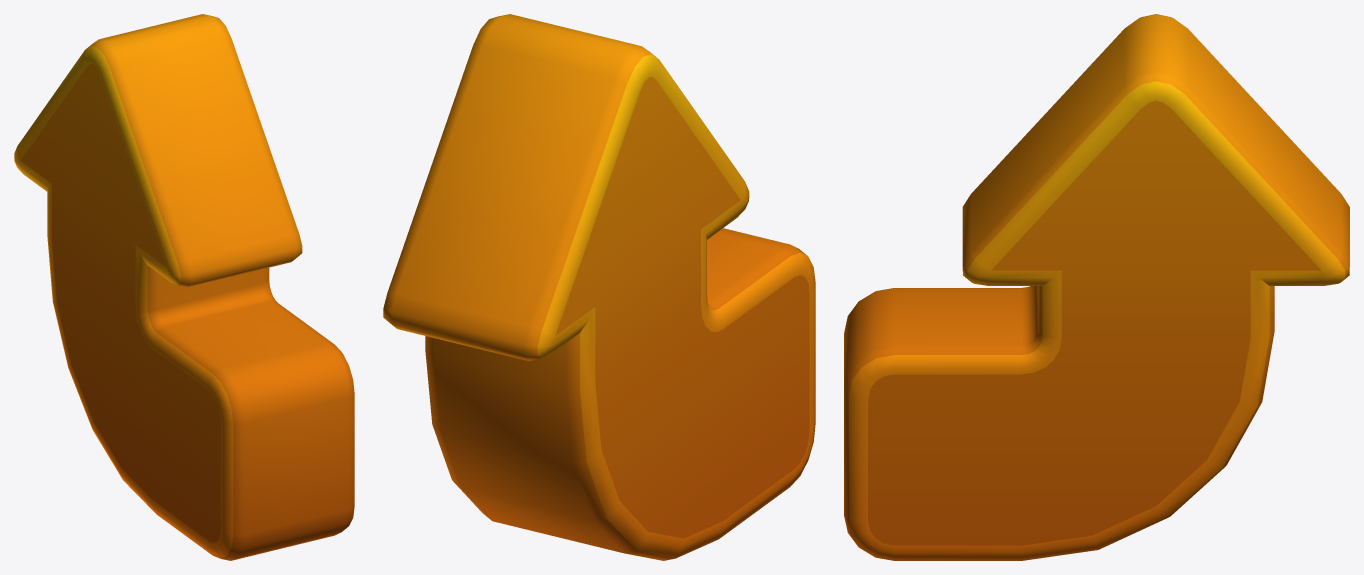
File: Angled_Arrow_V3_00.fbx
3 renders of one model, left to right at view 1: azimuth 30°, elevation 25°; view 2: azimuth 150°, elevation 25°; view 3: azimuth 270°, elevation 25°, orthographic. The views are drawn at different scales.
Visible parts, largest first — view 1: Angled_Arrow_V3_00; view 2: Angled_Arrow_V3_00; view 3: Angled_Arrow_V3_00.
Boxes of the visible parts, <box> form: Angled_Arrow_V3_00: <box>14,14,354,560</box>; Angled_Arrow_V3_00: <box>383,14,815,560</box>; Angled_Arrow_V3_00: <box>844,14,1349,560</box>.
Bounding box in the file's own units: 12.47 × 39.84 × 37.38.
